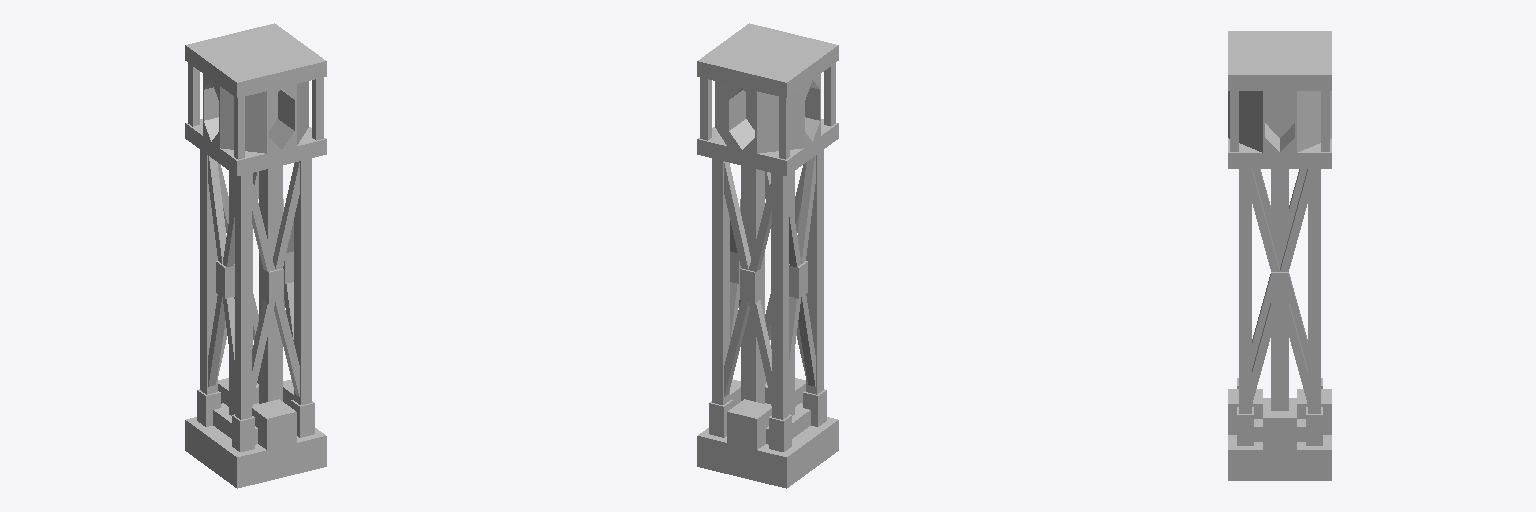
Rendered from solar_tower_mirrored.obj.
3 renders of one model, left to right at view 1: azimuth 30°, elevation 25°; view 2: azimuth 150°, elevation 25°; view 3: azimuth 270°, elevation 25°, orthographic.
Parts seen in each view (by area): view 1: solar_tower; view 2: solar_tower; view 3: solar_tower.
Part boxes in pixels (left/top/right/bottom): solar_tower: left=185, top=23, right=326, bottom=488; solar_tower: left=697, top=23, right=838, bottom=488; solar_tower: left=1228, top=31, right=1331, bottom=480.
Bounding box in the file's own units: 3 × 13 × 3.